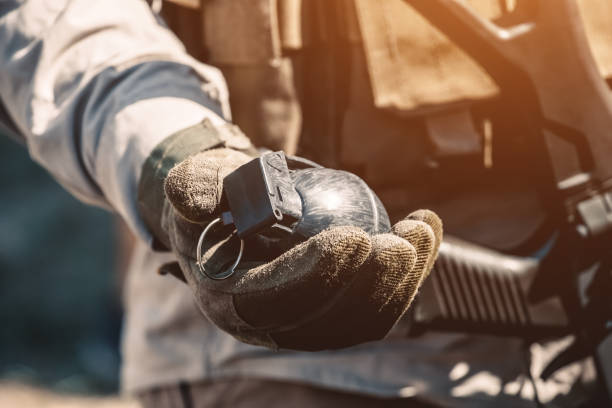e1: (201, 148, 398, 279)
